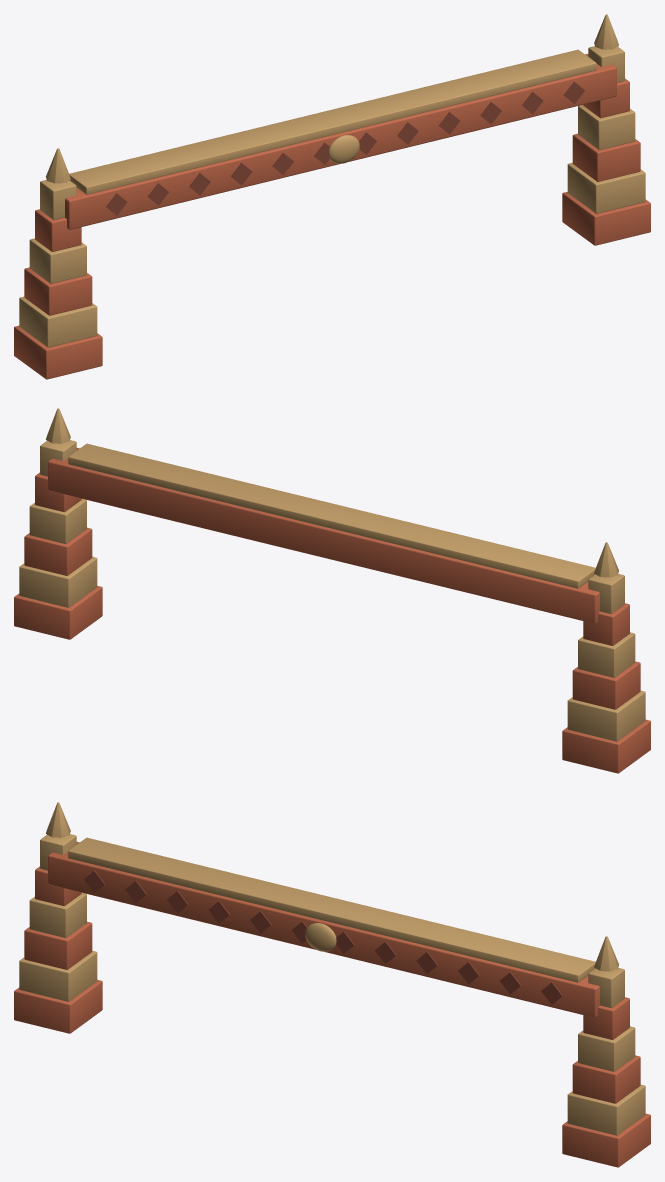
The model's file is gapura-candi.glb.
3 views of the same model, one above another, from view 1: azimuth 30°, elevation 25°; view 2: azimuth 150°, elevation 25°; view 3: azimuth 330°, elevation 25° (orthographic).
Parts seen in each view (by area): view 1: Cube.012, Cube.013, Cube, Cube.006, Cube.001, Cube.007, Cube.008, Cube.002, Cube.003, Cube.009, Cube.004, Cube.005 (+5 smaller); view 2: Cube.012, Cube.013, Cube, Cube.006, Cube.001, Cube.007, Cube.008, Cube.002, Cube.003, Cube.009, Cube.004, Cube.005 (+4 smaller); view 3: Cube.012, Cube.013, Cube.006, Cube, Cube.001, Cube.007, Cube.002, Cube.008, Cube.009, Cube.003, Cube.010, Cube.011 (+5 smaller).
Boxes of the visible parts, box(x1,y1,x2,y2) form: Cube.012: box(65, 54, 616, 229); Cube.013: box(69, 49, 596, 194); Cube: box(14, 325, 102, 379); Cube.006: box(562, 192, 650, 245); Cube.001: box(19, 296, 97, 347); Cube.007: box(567, 162, 645, 213); Cube.008: box(572, 133, 640, 181); Cube.002: box(24, 267, 92, 315); Cube.003: box(29, 238, 86, 283); Cube.009: box(578, 105, 635, 149); Cube.004: box(35, 209, 81, 251); Cube.005: box(40, 180, 76, 219); Cube.012: box(48, 448, 599, 623); Cube.013: box(68, 443, 595, 588); Cube: box(562, 719, 650, 773); Cube.006: box(14, 586, 102, 639); Cube.001: box(567, 690, 645, 741); Cube.007: box(19, 556, 97, 607); Cube.008: box(24, 527, 92, 575); Cube.002: box(572, 661, 640, 709); Cube.003: box(578, 632, 635, 677); Cube.009: box(29, 499, 86, 543); Cube.004: box(583, 603, 629, 645); Cube.005: box(588, 574, 624, 613); Cube.012: box(48, 842, 599, 1017); Cube.013: box(68, 837, 595, 982); Cube.006: box(562, 1113, 650, 1167); Cube: box(14, 980, 102, 1033); Cube.001: box(19, 950, 97, 1001); Cube.007: box(567, 1084, 645, 1135); Cube.002: box(24, 921, 92, 969); Cube.008: box(572, 1055, 640, 1103); Cube.009: box(578, 1026, 635, 1071); Cube.003: box(29, 893, 86, 937); Cube.010: box(583, 997, 629, 1039); Cube.011: box(588, 968, 624, 1007).
Bounding box in the file's own units: 64 × 21.5 × 6.
